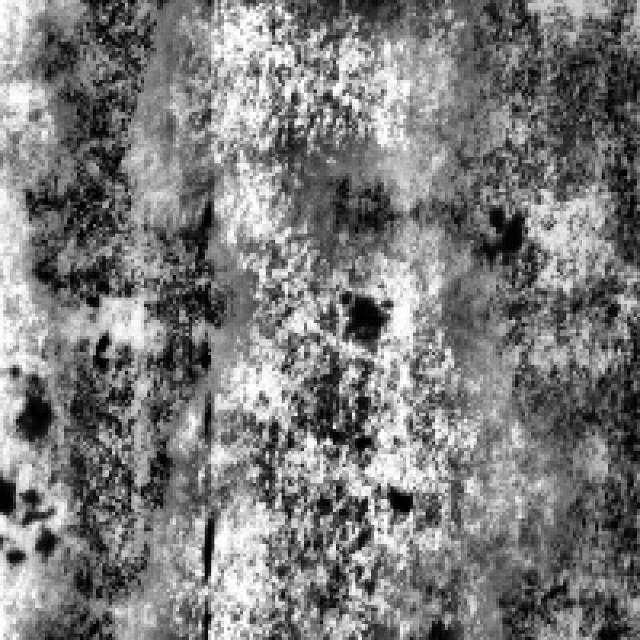Patches: (0, 388, 64, 566), (323, 278, 397, 352)
Scratches: (419, 0, 637, 637), (32, 0, 215, 637)
